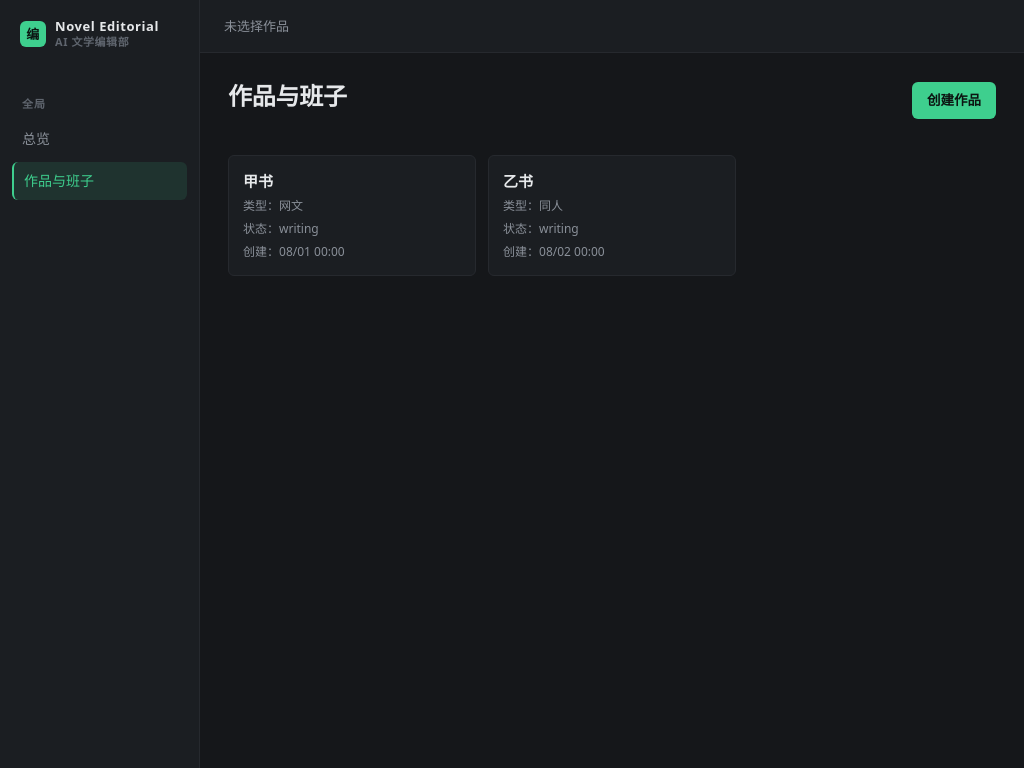
Test: works list page › renders works and opens the detail page on click
Expected: the button with test id "works-card" shows "乙书", [488, 155, 736, 276]
Click the button with test id "works-card" that starts with "类型：" at (352, 216), box [228, 155, 476, 276]
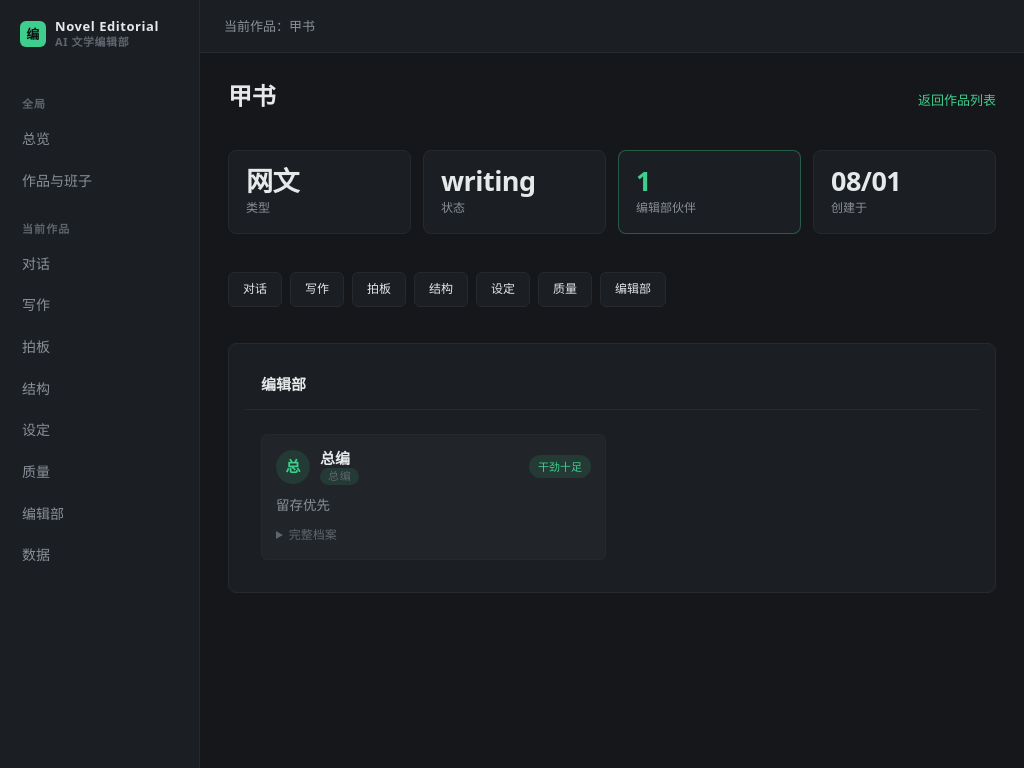
Now the heading "甲书" is shown, box [228, 77, 276, 114]
Now the list item with test id "agent-card" shows "总编", box [320, 448, 350, 468]
